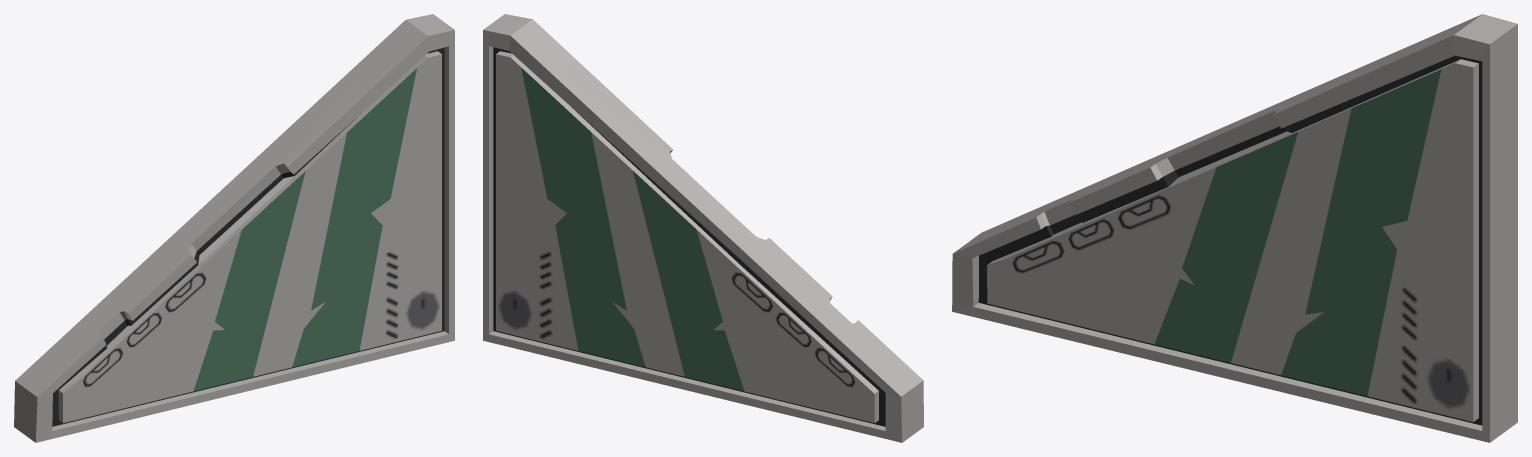
The model's file is SM_Bld_Stairwell_Wall_02.fbx.
The picture shows the model from 3 angles, left to right: view 1: azimuth 30°, elevation 25°; view 2: azimuth 150°, elevation 25°; view 3: azimuth 330°, elevation 25°; orthographic projection. The views are drawn at different scales.
Visible parts, largest first — view 1: SM_Bld_Stairwell_Wall_02; view 2: SM_Bld_Stairwell_Wall_02; view 3: SM_Bld_Stairwell_Wall_02.
Boxes of the visible parts, box(x1,y1,x2,y2) form: SM_Bld_Stairwell_Wall_02: box(14, 14, 454, 442); SM_Bld_Stairwell_Wall_02: box(483, 14, 923, 442); SM_Bld_Stairwell_Wall_02: box(952, 14, 1517, 442).
Size of the model in its own units: 250 by 178 by 23.21.
